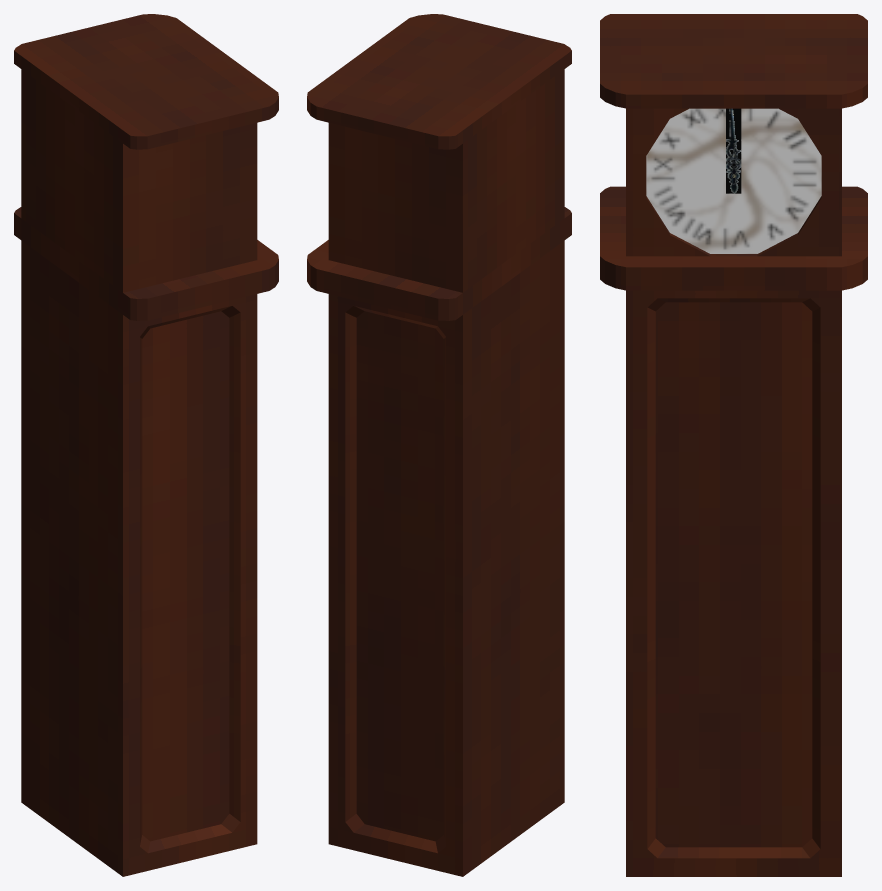
Rendered from clock.obj.
3 views of the same model, side by side, from view 1: azimuth 30°, elevation 25°; view 2: azimuth 150°, elevation 25°; view 3: azimuth 270°, elevation 25° (orthographic). The views are drawn at different scales.
Visible parts, largest first — view 1: main body; view 2: main body; view 3: main body, main face, minute hand.
Part boxes in pixels (bbox=[...]): main body: bbox=[14, 14, 278, 876]; main body: bbox=[307, 14, 571, 876]; main body: bbox=[600, 14, 867, 876]; main face: bbox=[646, 108, 821, 253]; minute hand: bbox=[726, 108, 741, 193].
Size of the model in its own units: 2.31 by 10.62 by 3.25.
Materials: 5 (5 with a texture image).
